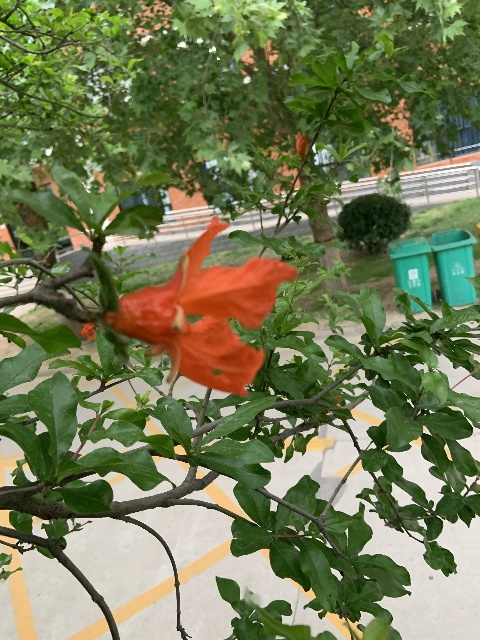flower: (105, 215, 297, 397), (295, 131, 309, 157), (80, 322, 96, 341)
